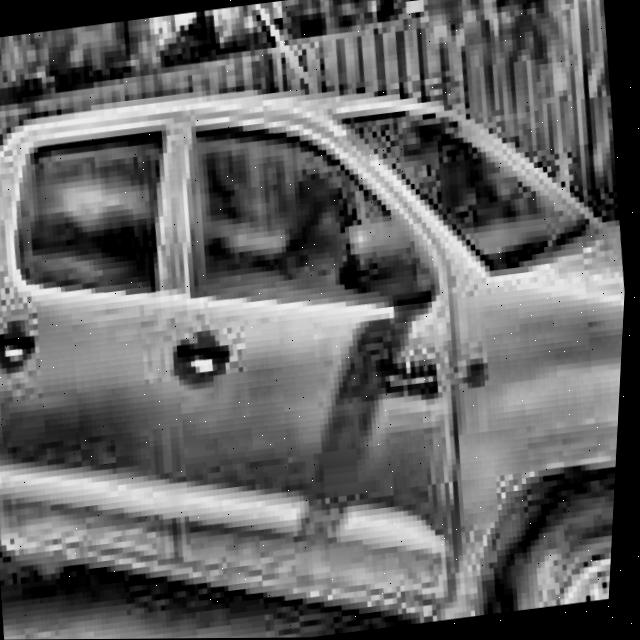light_vehicle: (0, 4, 640, 640)
